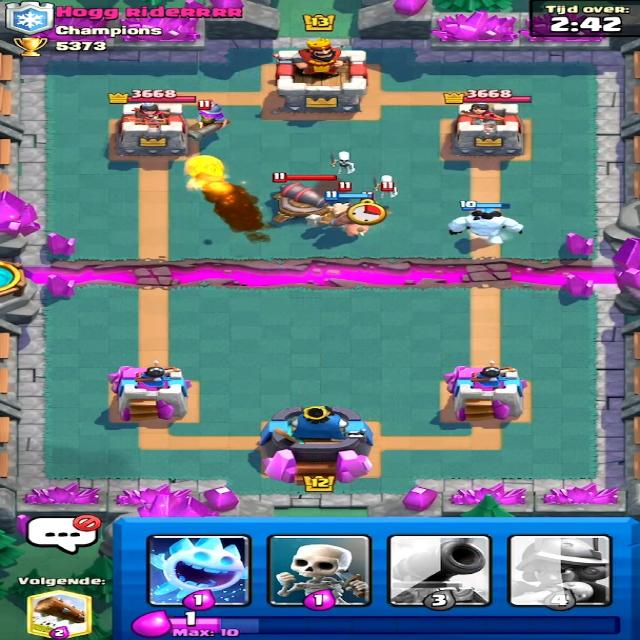Cannon_Card: (390, 536, 490, 610)
Enemy_Cannon_Troop: (256, 183, 337, 221)
Enemy_Musketeer_Troop: (192, 96, 240, 140)
Fireball_Troop: (173, 153, 232, 194)
Ice_Golem_Troop: (448, 208, 527, 247)
Ice_Spirit_Card: (139, 531, 247, 607)
Musketeer_Card: (512, 534, 608, 605)
Skeleton_Card: (272, 533, 366, 604)
